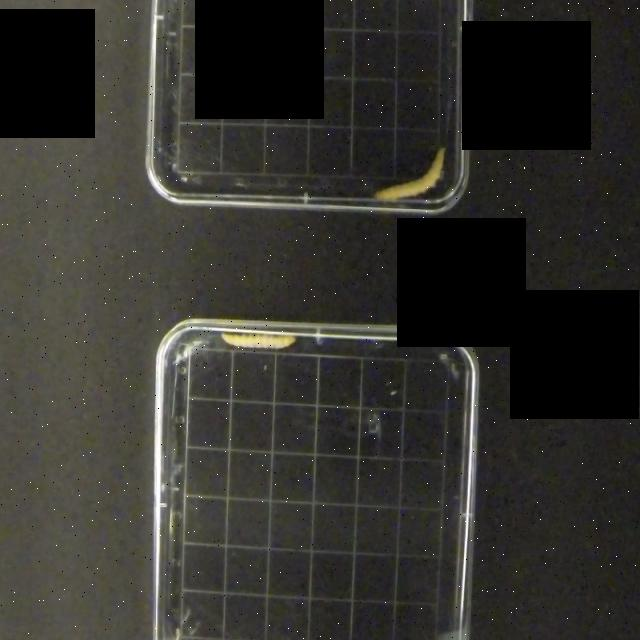larva: (370, 140, 457, 203), (213, 327, 302, 352)
